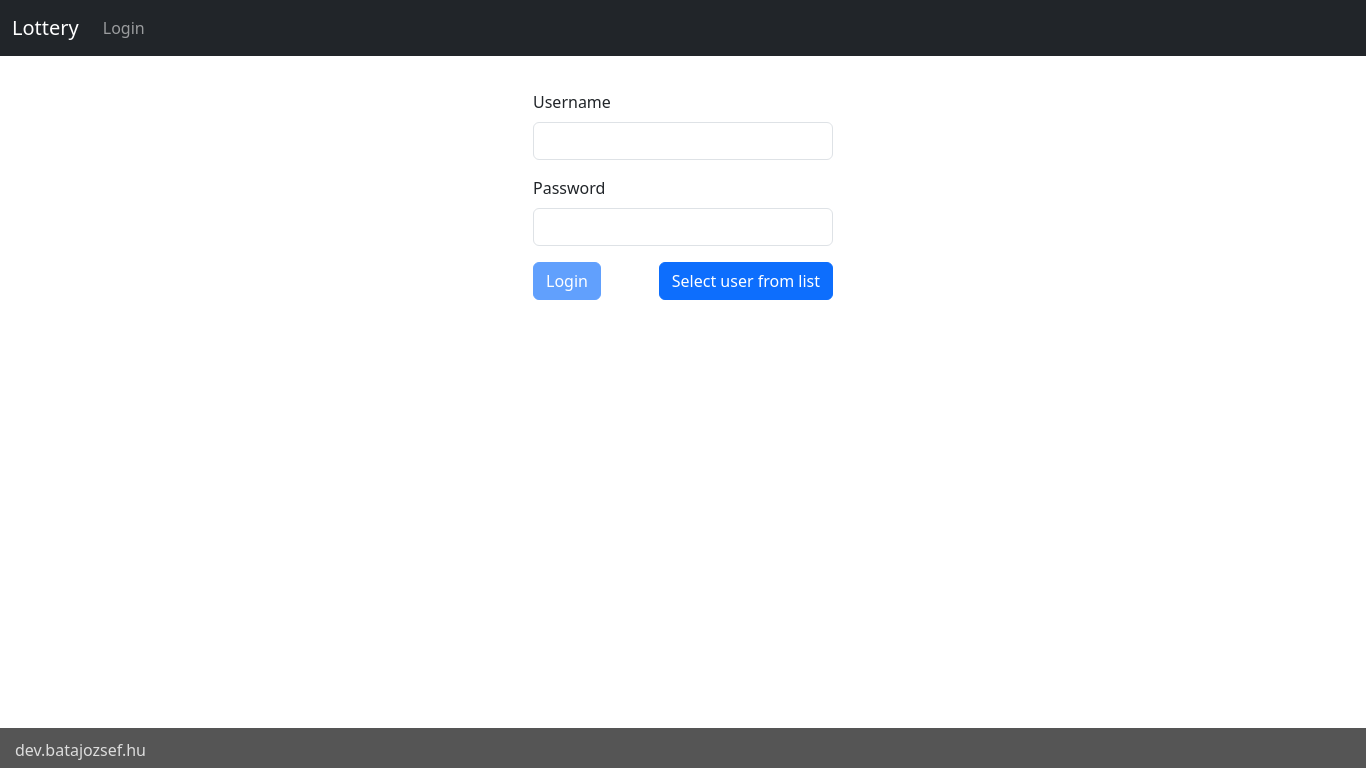
Test: Lottery Test › Select user from the list
The width and height of the screenshot is (1366, 768).
Click the button with class "toggle-user-list": point(746, 281) [659,262,833,300]
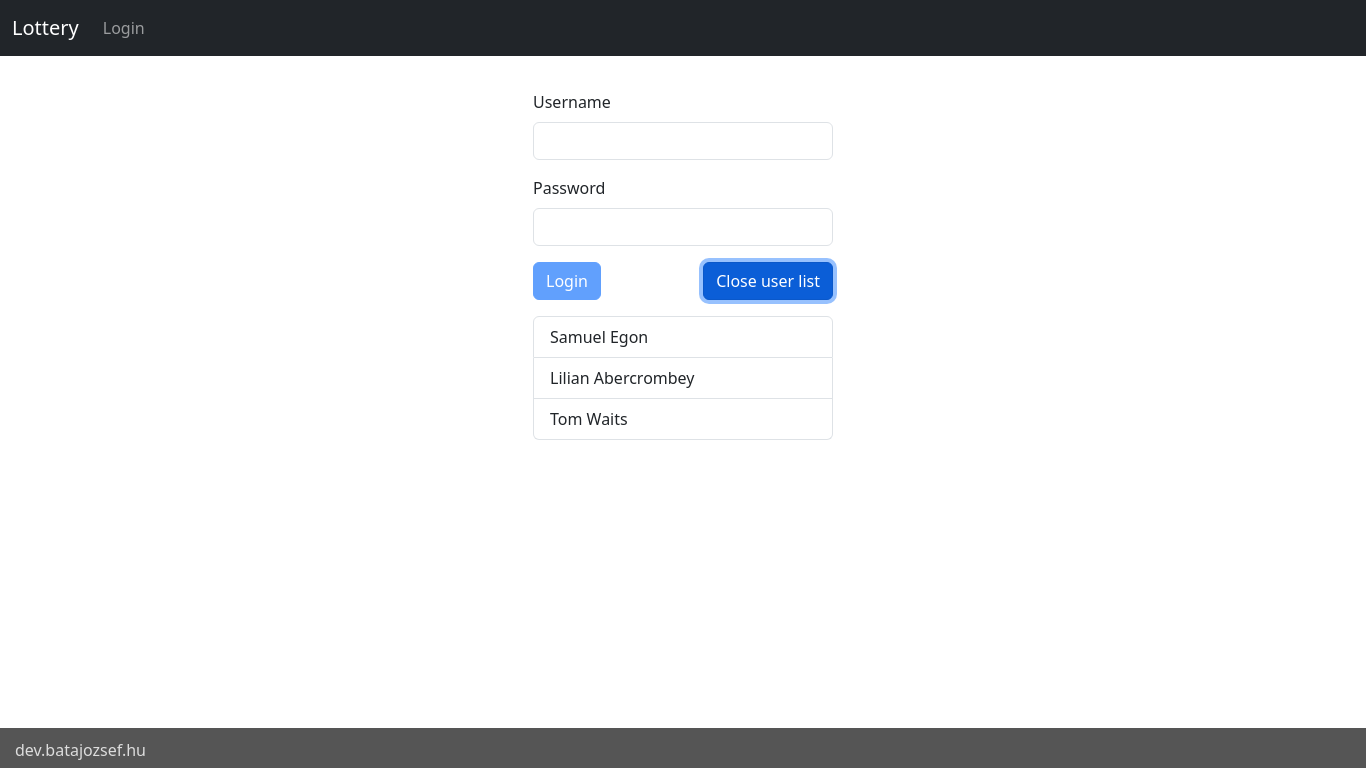
Result: the list with class "user-list" is shown at [533,316,833,440]
Click the list item with class "user-account" showing "Samuel Egon": point(683, 337) [533,316,833,358]
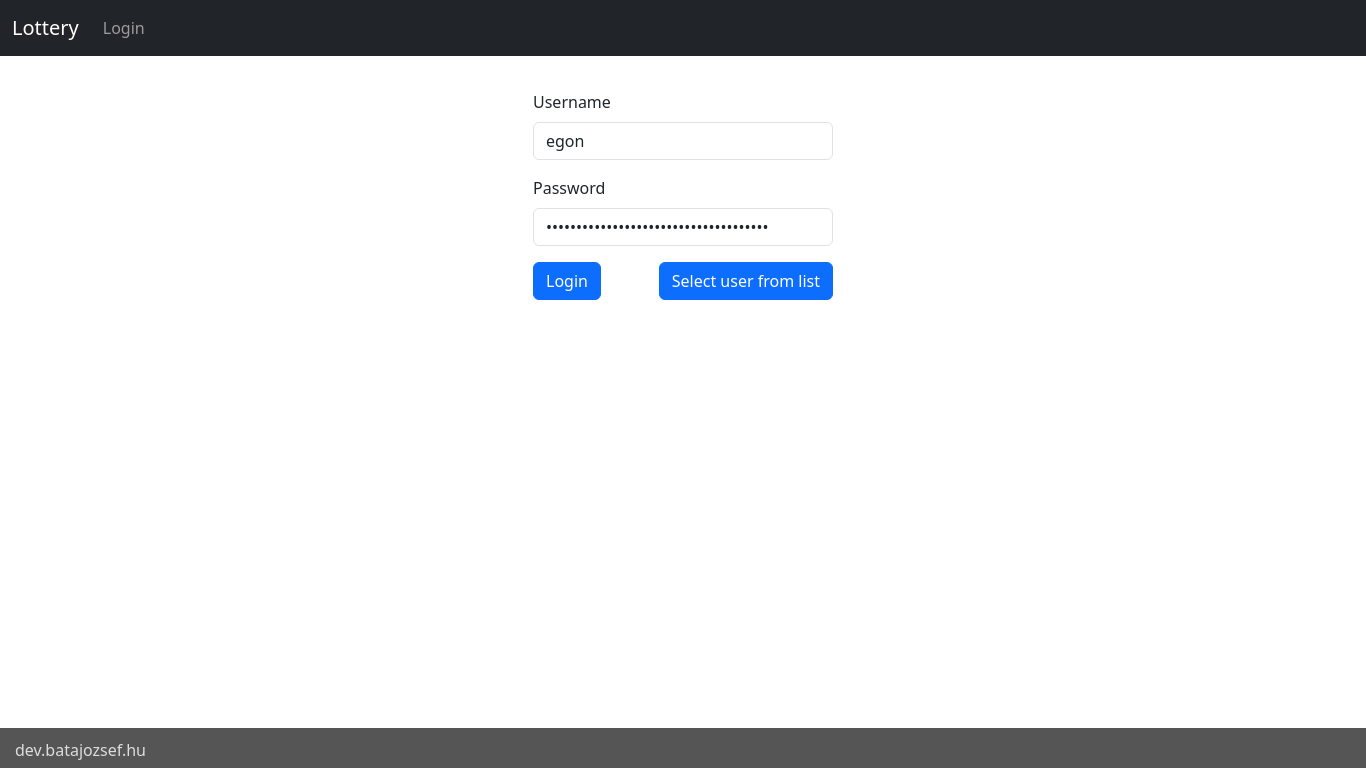
Result: the button with class "submit-login" is enabled
Click the button with class "submit-login": point(567, 281) [533,262,601,300]
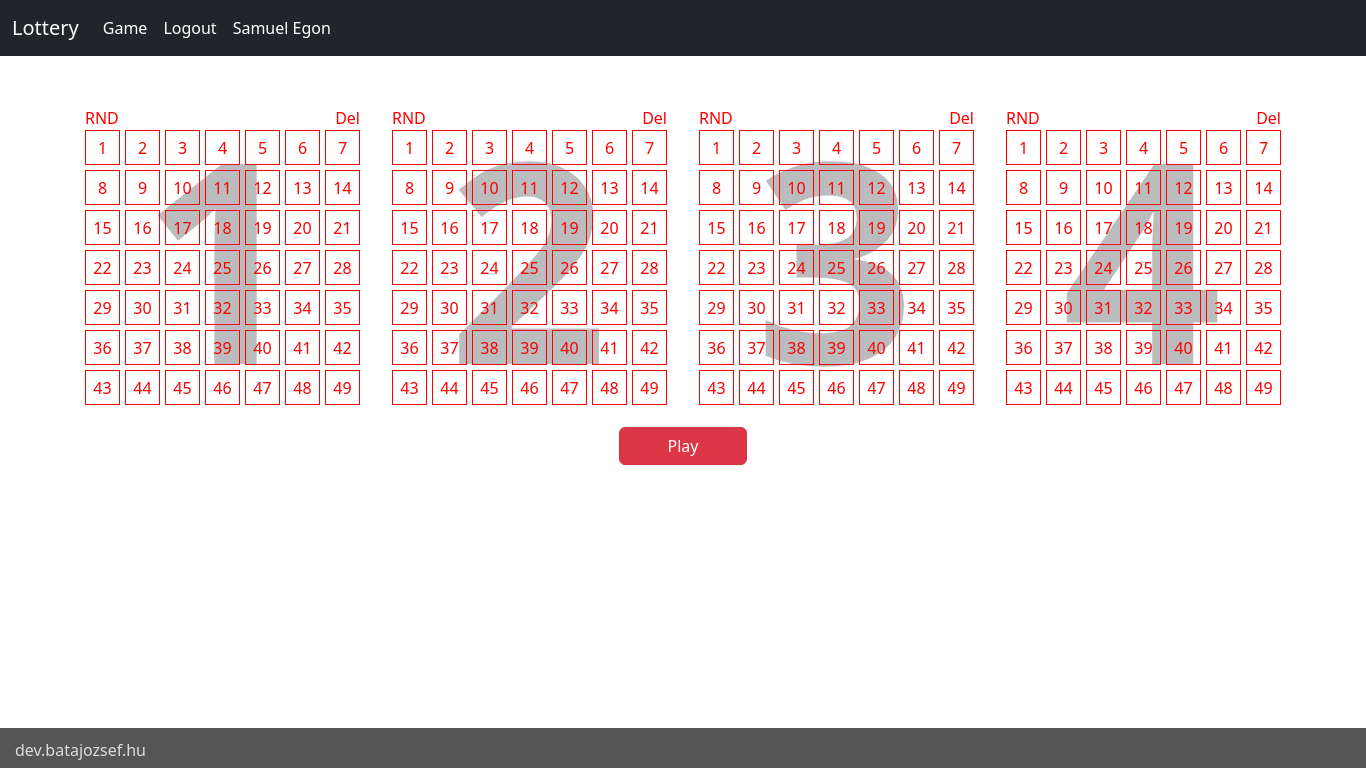
Result: the 1st element with class "number-container" is shown at [85,130,360,405]
